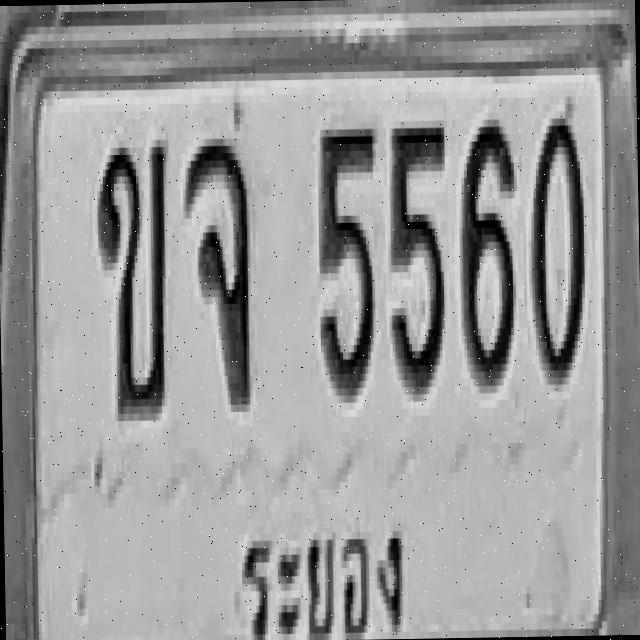0: (526, 110, 586, 384)
11KhorKhai: (94, 136, 170, 418)
17ChorChan: (183, 134, 251, 409)
5: (315, 121, 378, 402), (387, 120, 450, 394)
6: (458, 112, 518, 386)
Rayong: (218, 483, 428, 640)
